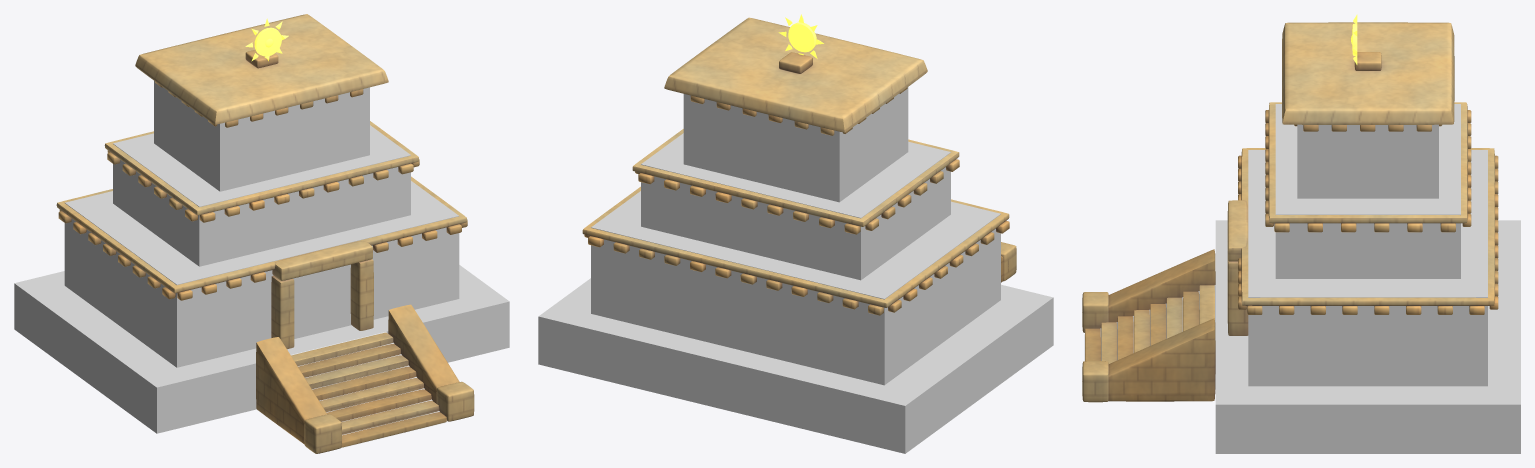
The model's file is SD_P06_TempleGate.fbx.
3 views of the same model, side by side, from view 1: azimuth 30°, elevation 25°; view 2: azimuth 150°, elevation 25°; view 3: azimuth 270°, elevation 25° (orthographic). The views are drawn at different scales.
Visible parts, largest first — view 1: Temple_LOD0, COL_Tier2, COL_Base, COL_Tier3, COL_Tier4, Emblem, COL_Steps; view 2: COL_Tier2, COL_Base, Temple_LOD0, COL_Tier3, COL_Tier4, Emblem; view 3: Temple_LOD0, COL_Base, COL_Tier2, COL_Tier3, COL_Tier4.
Part boxes in pixels (box(x1,y1,x2,y2)): Temple_LOD0: box(56, 14, 474, 453); COL_Tier2: box(64, 181, 459, 367); COL_Base: box(14, 265, 509, 433); COL_Tier3: box(113, 125, 410, 266); COL_Tier4: box(154, 81, 369, 191); Emblem: box(245, 18, 288, 61); COL_Steps: box(291, 332, 446, 448); COL_Tier2: box(591, 191, 1000, 385); COL_Base: box(538, 278, 1053, 453); Temple_LOD0: box(582, 17, 1016, 315); COL_Tier3: box(641, 133, 950, 280); COL_Tier4: box(683, 87, 908, 202); Emblem: box(778, 14, 823, 58); Temple_LOD0: box(1082, 22, 1498, 402); COL_Base: box(1215, 220, 1520, 453); COL_Tier2: box(1248, 150, 1487, 386); COL_Tier3: box(1275, 104, 1460, 278); COL_Tier4: box(1297, 124, 1438, 198).
Size of what is drawn, in the model's own units: 8 by 7.02 by 8.05.
